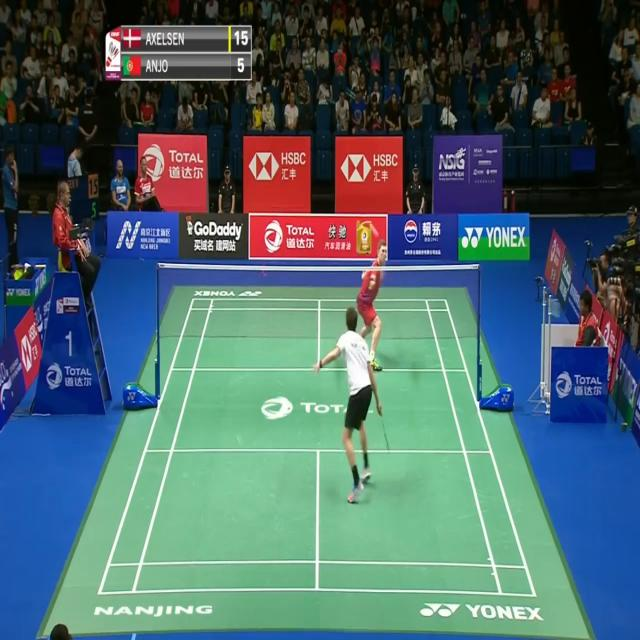Player1: (312, 306, 392, 506)
Player2: (355, 238, 391, 374)
